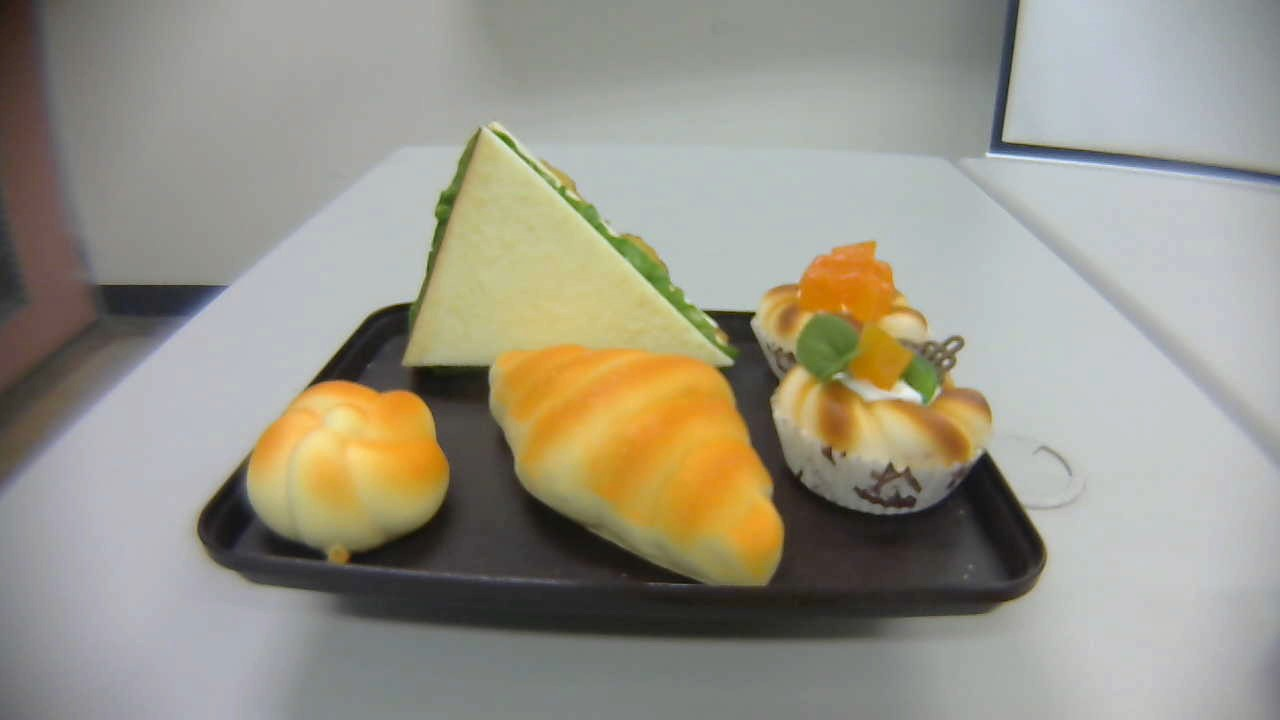croissant: (487, 342, 786, 591)
fruit tart: (771, 316, 994, 517)
mango tart: (750, 240, 920, 385)
sandwich: (400, 117, 740, 372)
twist bread: (246, 380, 451, 565)
